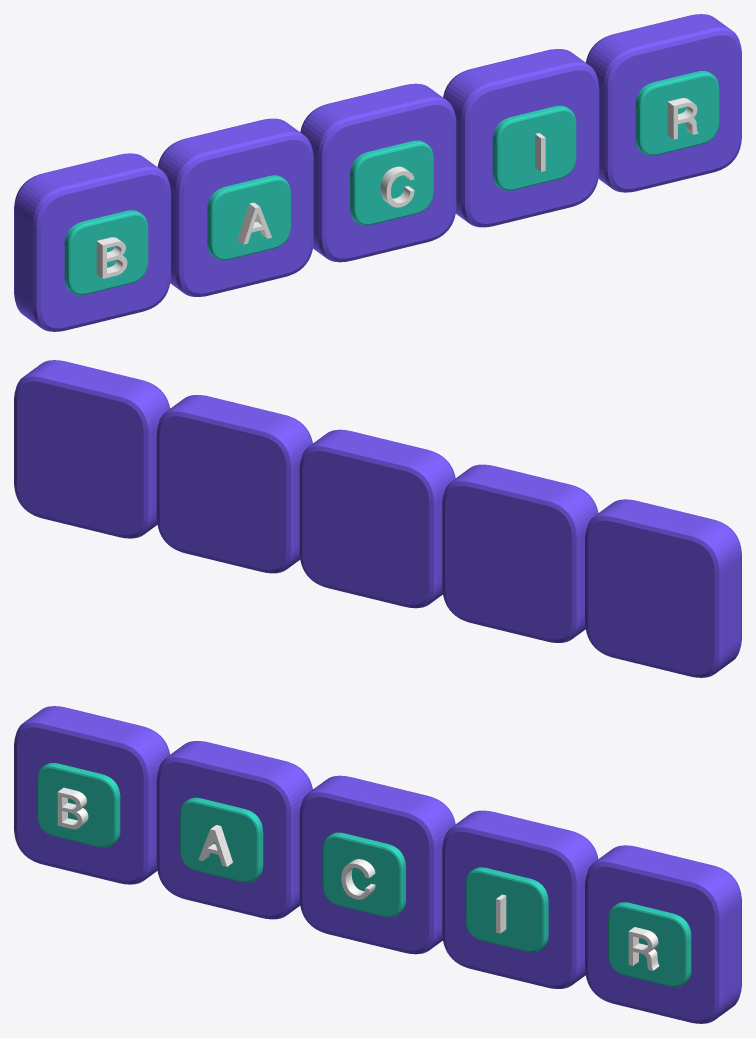
Rendered from 3d-modular-clicker.glb.
The picture shows the model from 3 angles, top to bottom: view 1: azimuth 30°, elevation 25°; view 2: azimuth 150°, elevation 25°; view 3: azimuth 330°, elevation 25°; orthographic projection.
Size of the model in its own units: 67 by 13 by 5.7.
